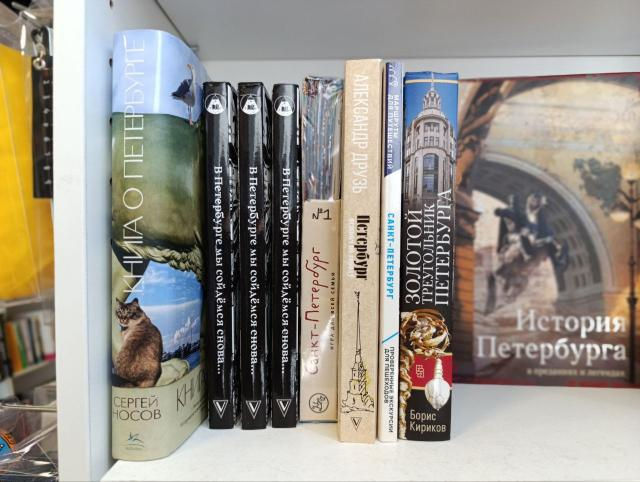book-s-spine: (112, 30, 163, 461), (399, 72, 458, 441), (340, 58, 380, 444), (203, 82, 234, 430), (238, 82, 267, 430), (378, 62, 403, 442), (300, 199, 340, 423), (272, 83, 297, 428)
